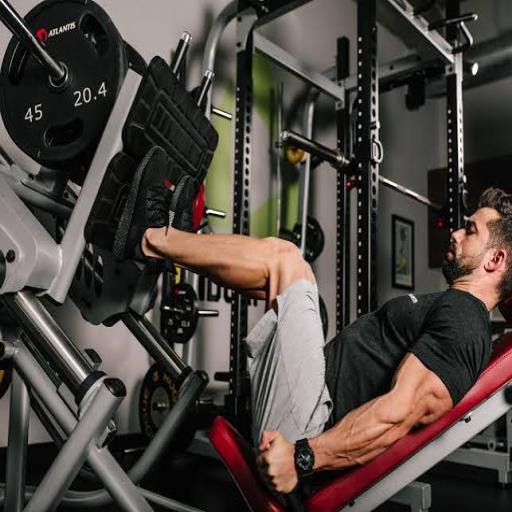Leg Press: (10, 53, 497, 483)
